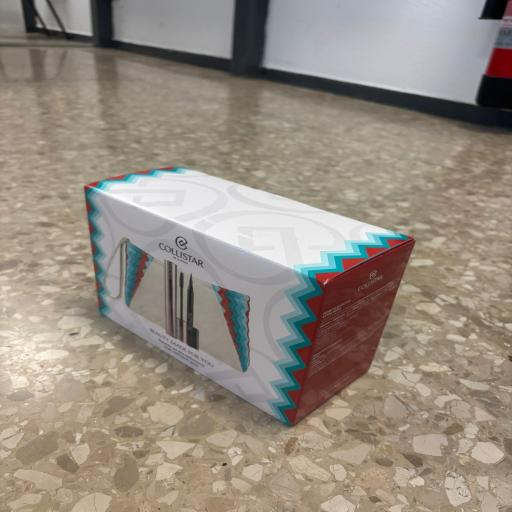caja_1: (86, 168, 413, 424)
